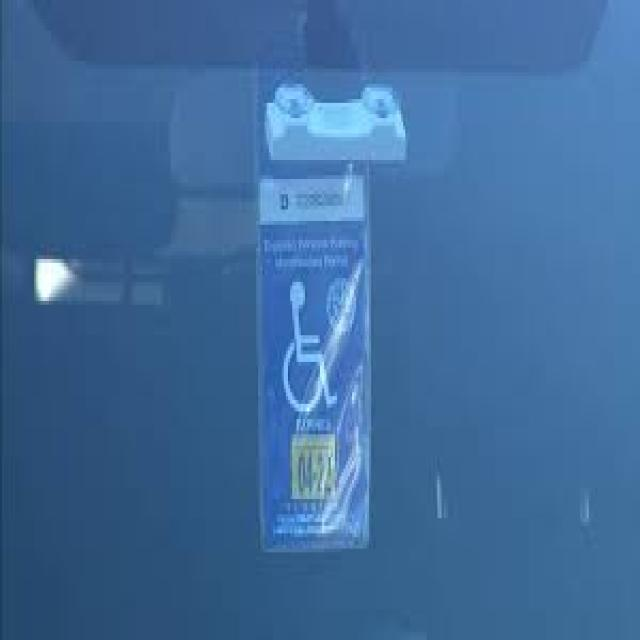car-handicap-placard: (282, 278, 338, 416)
